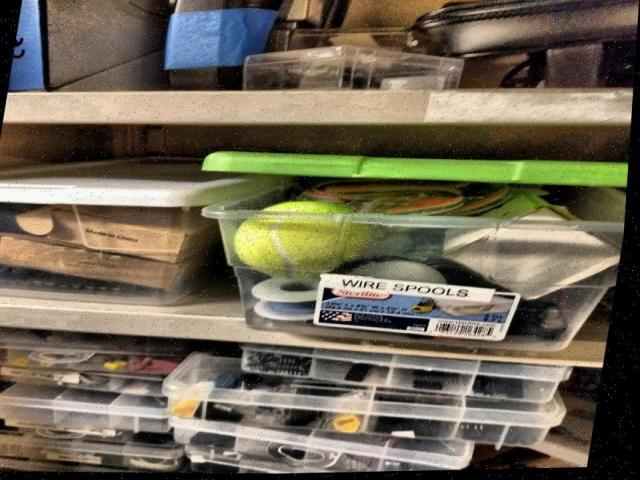tennis-ball: (232, 200, 370, 279)
